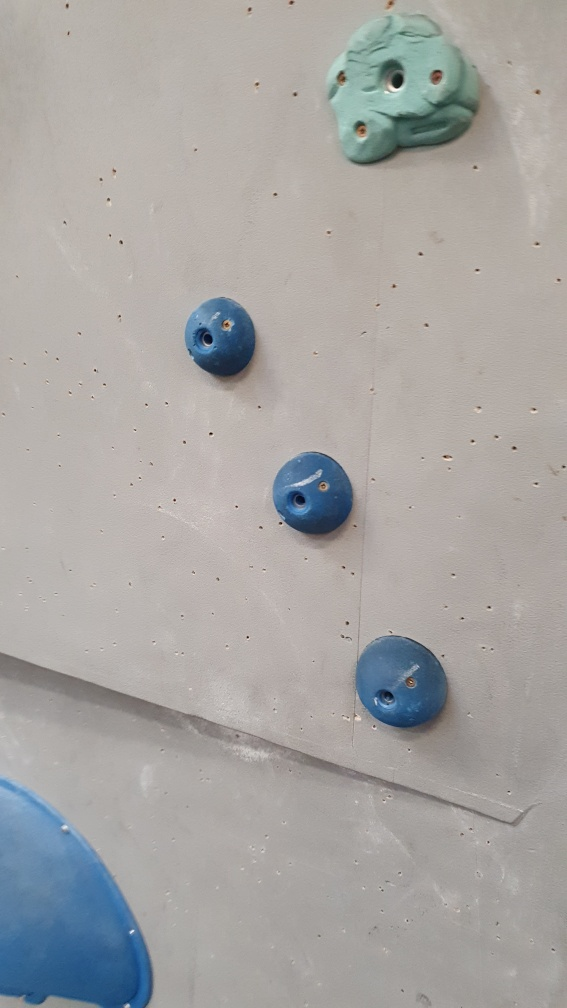Sloper: (347, 625, 454, 736), (266, 449, 361, 540), (177, 287, 261, 386)
